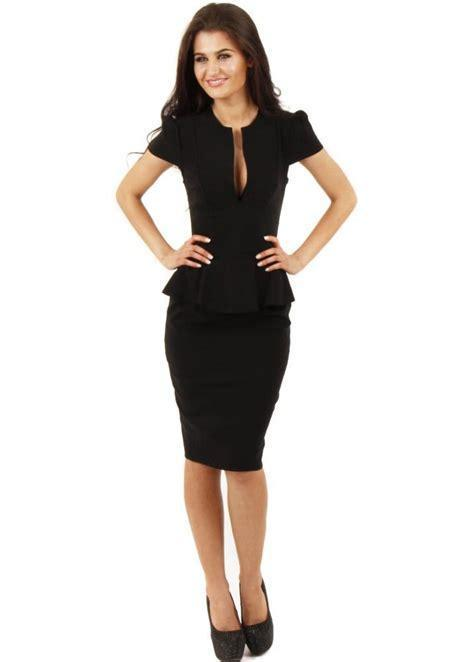dress: (144, 101, 324, 472)
